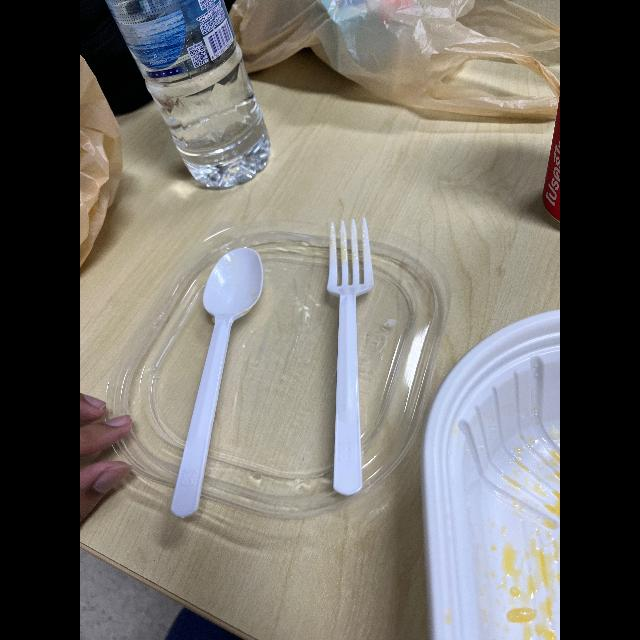plastic_cultery: (165, 240, 268, 528), (300, 205, 386, 505)
